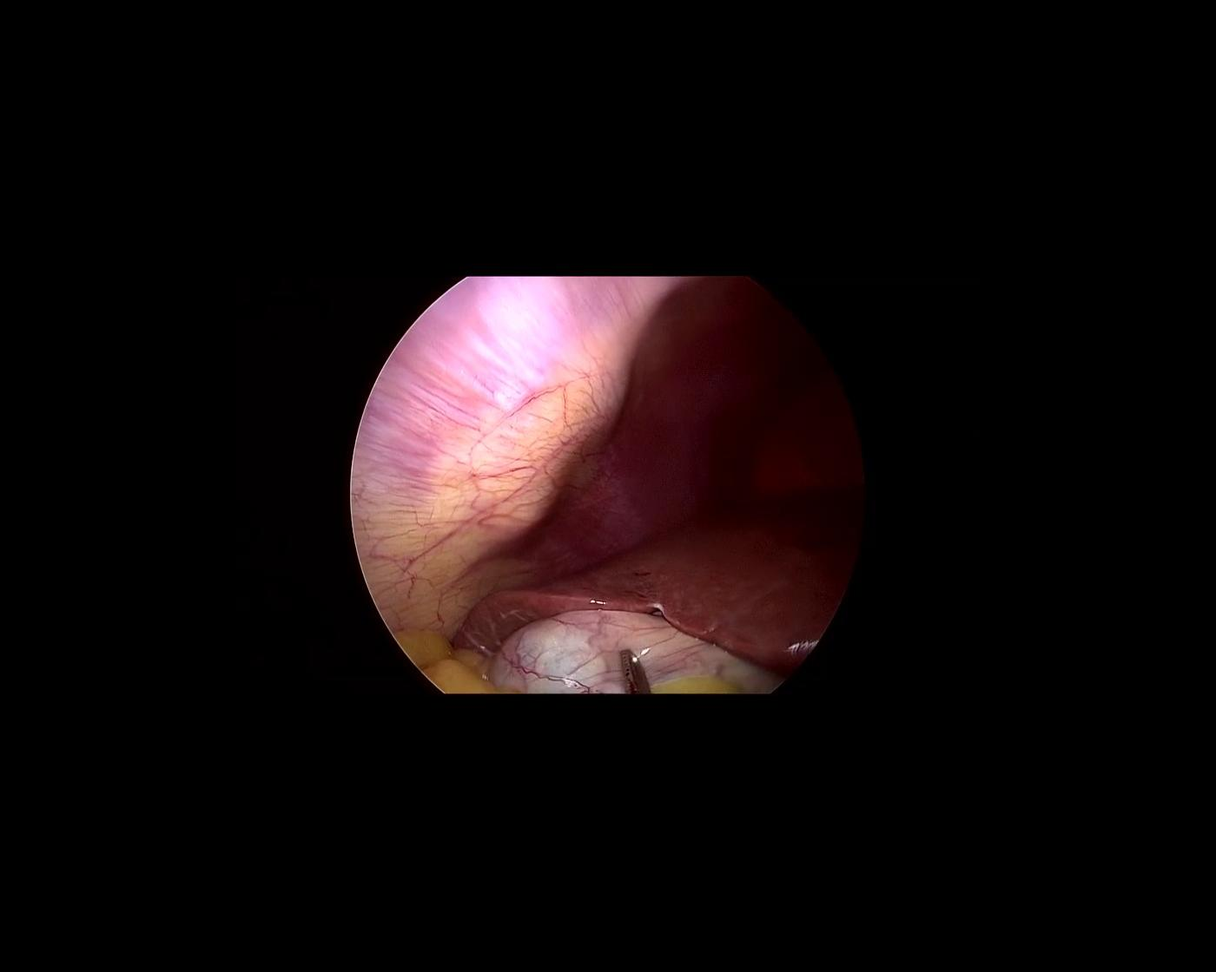Gallbladder: (499, 608, 782, 696)
Liver: (448, 510, 864, 690)
